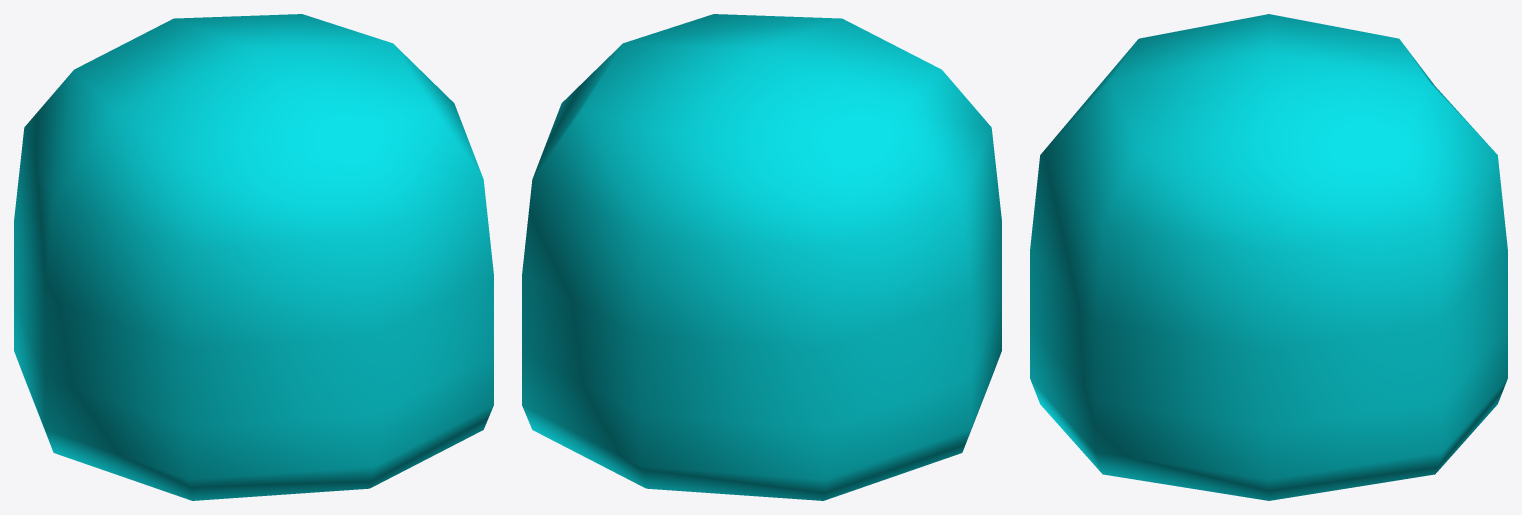
File: Slime.fbx
The picture shows the model from 3 angles, left to right: view 1: azimuth 30°, elevation 25°; view 2: azimuth 150°, elevation 25°; view 3: azimuth 270°, elevation 25°; orthographic projection.
Parts seen in each view (by area): view 1: Slime Walk; view 2: Slime Walk; view 3: Slime Walk.
Boxes of the visible parts, bbox=[...] form: Slime Walk: bbox=[14, 14, 493, 500]; Slime Walk: bbox=[522, 14, 1001, 500]; Slime Walk: bbox=[1030, 14, 1507, 500].
Bounding box in the file's own units: 120 × 100 × 120.
